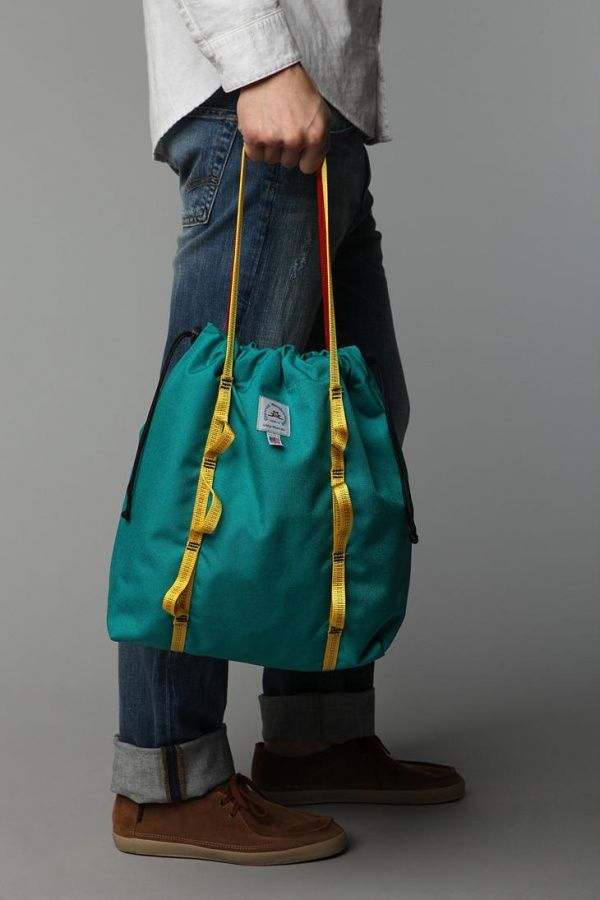nylon: (109, 321, 415, 670)
